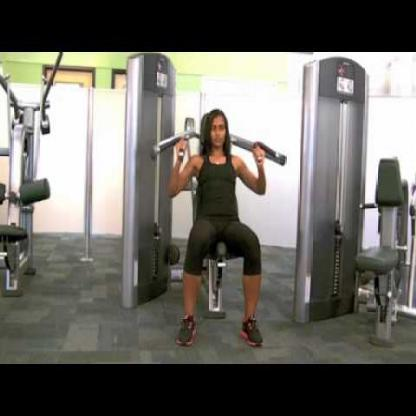shoulder press machine: (123, 130, 288, 322)
